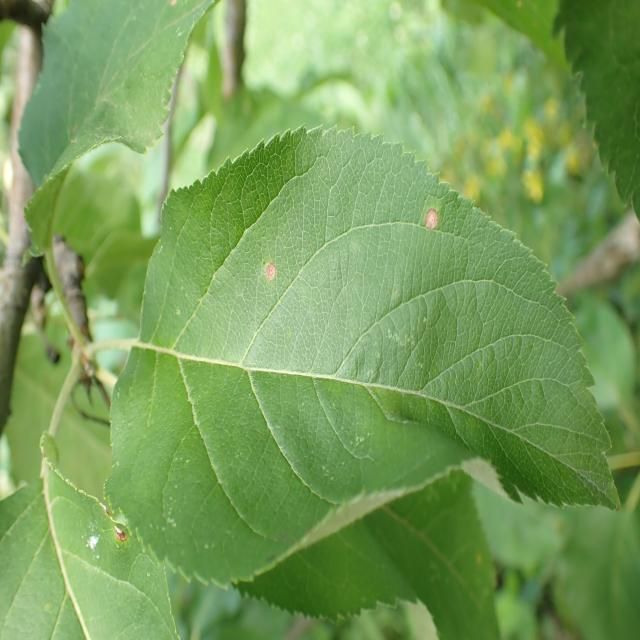frog-eye-leaf-spot: (102, 122, 622, 591)
